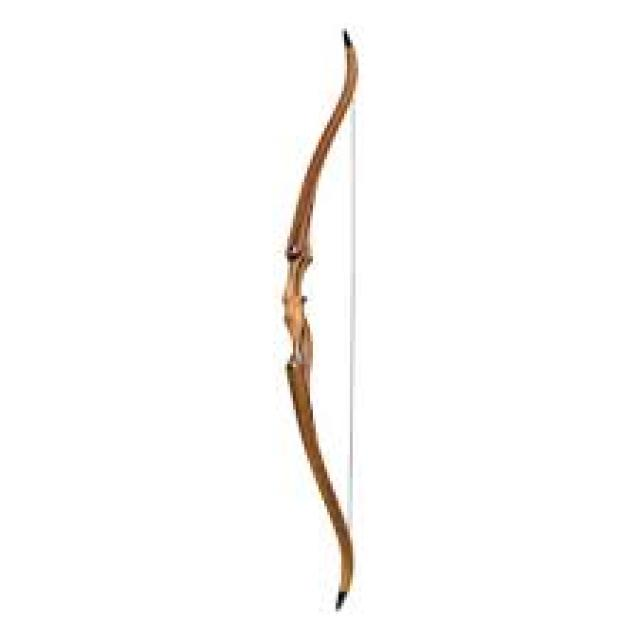X-Bow: (274, 20, 371, 622)
